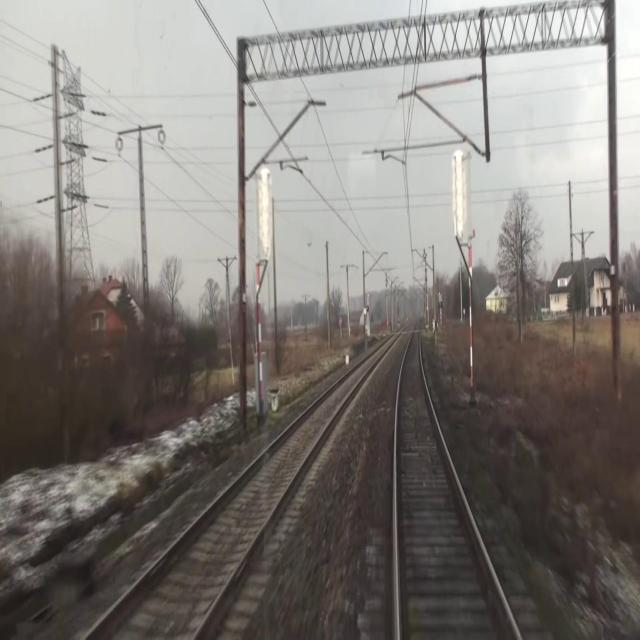rail-track: (88, 337, 393, 639), (398, 319, 518, 639)
